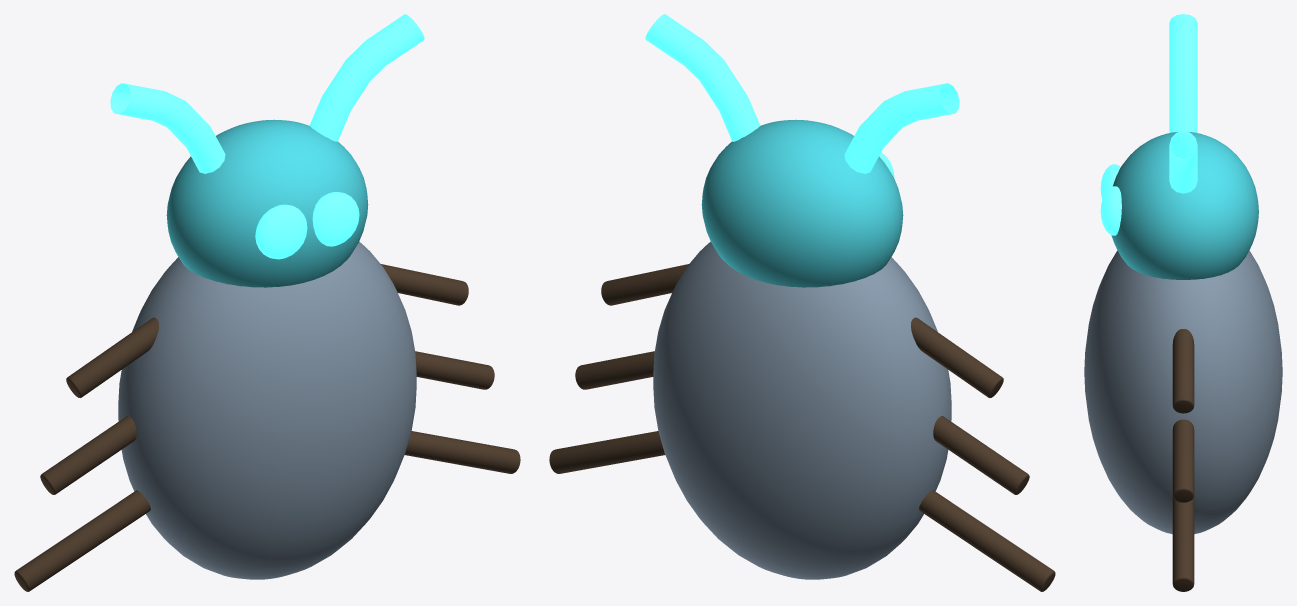
The model's file is crawler_v8.glb.
The picture shows the model from 3 angles, left to right: view 1: azimuth 30°, elevation 25°; view 2: azimuth 150°, elevation 25°; view 3: azimuth 270°, elevation 25°; orthographic projection. The views are drawn at different scales.
Visible parts, largest first — view 1: STAG_BEETLE_BODY_PRIMARY, STAG_BEETLE_HEAD_ACCENT, MANDIBLE_EMISSIVE.001, MANDIBLE_EMISSIVE, STAG_BEETLE_LEG_SECONDARY.002, STAG_BEETLE_LEG_SECONDARY.005, STAG_BEETLE_LEG_SECONDARY.001, STAG_BEETLE_LEG_SECONDARY, EYE_EMISSIVE, EYE_EMISSIVE.001, STAG_BEETLE_LEG_SECONDARY.003, STAG_BEETLE_LEG_SECONDARY.004; view 2: STAG_BEETLE_BODY_PRIMARY, STAG_BEETLE_HEAD_ACCENT, MANDIBLE_EMISSIVE.001, MANDIBLE_EMISSIVE, STAG_BEETLE_LEG_SECONDARY.002, STAG_BEETLE_LEG_SECONDARY.005, STAG_BEETLE_LEG_SECONDARY.001, STAG_BEETLE_LEG_SECONDARY, STAG_BEETLE_LEG_SECONDARY.003, STAG_BEETLE_LEG_SECONDARY.004; view 3: STAG_BEETLE_BODY_PRIMARY, STAG_BEETLE_HEAD_ACCENT, MANDIBLE_EMISSIVE, STAG_BEETLE_LEG_SECONDARY.005, STAG_BEETLE_LEG_SECONDARY.004, STAG_BEETLE_LEG_SECONDARY.003, MANDIBLE_EMISSIVE.001, EYE_EMISSIVE.001, EYE_EMISSIVE.
Part boxes in pixels (x1,y1,x2,y2): STAG_BEETLE_BODY_PRIMARY: (118, 241, 416, 579); STAG_BEETLE_HEAD_ACCENT: (166, 119, 368, 287); MANDIBLE_EMISSIVE.001: (309, 14, 424, 141); MANDIBLE_EMISSIVE: (110, 83, 225, 173); STAG_BEETLE_LEG_SECONDARY.002: (14, 490, 150, 591); STAG_BEETLE_LEG_SECONDARY.005: (404, 431, 520, 473); STAG_BEETLE_LEG_SECONDARY.001: (40, 416, 136, 494); STAG_BEETLE_LEG_SECONDARY: (66, 317, 158, 397); EYE_EMISSIVE: (255, 204, 307, 259); EYE_EMISSIVE.001: (312, 192, 359, 246); STAG_BEETLE_LEG_SECONDARY.003: (381, 264, 468, 305); STAG_BEETLE_LEG_SECONDARY.004: (415, 351, 494, 389); STAG_BEETLE_BODY_PRIMARY: (653, 241, 951, 579); STAG_BEETLE_HEAD_ACCENT: (701, 119, 903, 287); MANDIBLE_EMISSIVE.001: (645, 14, 760, 141); MANDIBLE_EMISSIVE: (844, 83, 959, 173); STAG_BEETLE_LEG_SECONDARY.002: (919, 490, 1055, 591); STAG_BEETLE_LEG_SECONDARY.005: (549, 431, 665, 473); STAG_BEETLE_LEG_SECONDARY.001: (933, 416, 1029, 494); STAG_BEETLE_LEG_SECONDARY: (911, 317, 1003, 397); STAG_BEETLE_LEG_SECONDARY.003: (601, 264, 688, 305); STAG_BEETLE_LEG_SECONDARY.004: (575, 351, 654, 389); STAG_BEETLE_BODY_PRIMARY: (1084, 250, 1282, 534); STAG_BEETLE_HEAD_ACCENT: (1111, 132, 1258, 279); MANDIBLE_EMISSIVE: (1169, 14, 1197, 132); STAG_BEETLE_LEG_SECONDARY.005: (1172, 496, 1194, 591); STAG_BEETLE_LEG_SECONDARY.004: (1172, 419, 1194, 502); STAG_BEETLE_LEG_SECONDARY.003: (1172, 329, 1194, 413); MANDIBLE_EMISSIVE.001: (1169, 131, 1197, 193); EYE_EMISSIVE.001: (1100, 186, 1121, 235); EYE_EMISSIVE: (1100, 164, 1120, 199).
Size of the model in its own units: 1.8 by 1.8 by 0.7176.
